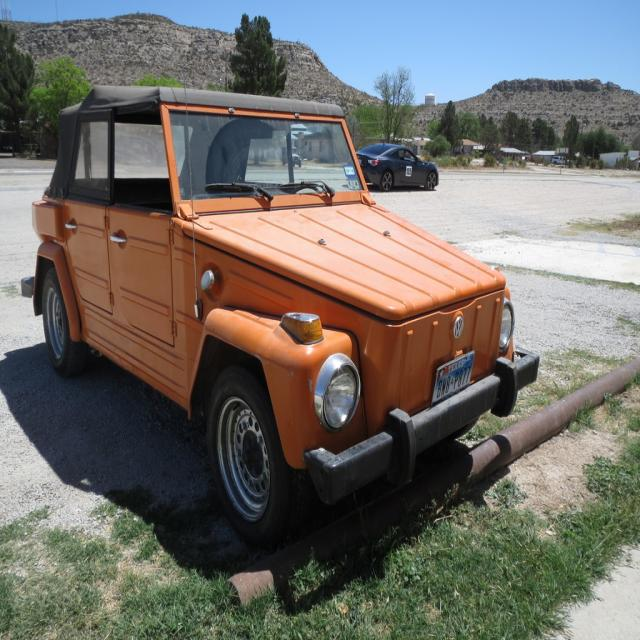car: (33, 92, 528, 538)
